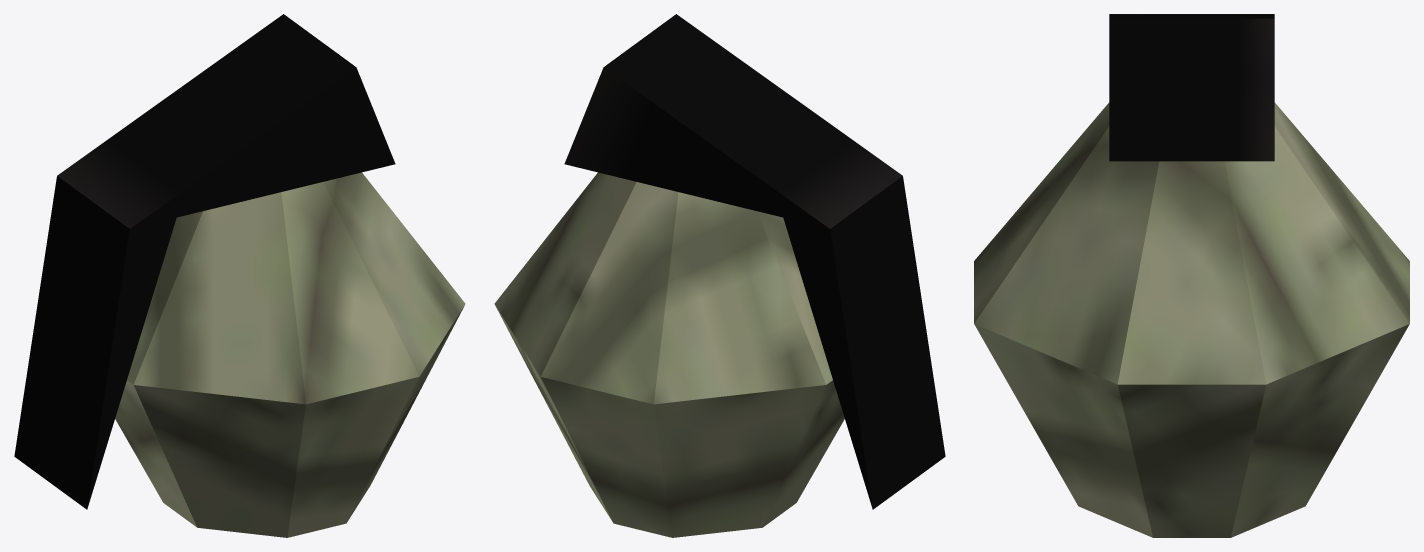
File: grenade.fbx
3 views of the same model, side by side, from view 1: azimuth 30°, elevation 25°; view 2: azimuth 150°, elevation 25°; view 3: azimuth 270°, elevation 25° (orthographic). The views are drawn at different scales.
Parts seen in each view (by area): view 1: Cube; view 2: Cube; view 3: Cube.
Boxes of the visible parts, x1,y1,x2,y2 form: Cube: (14,14,465,537); Cube: (494,14,945,537); Cube: (974,14,1409,537).
Bounding box in the file's own units: 230 × 254 × 200.
